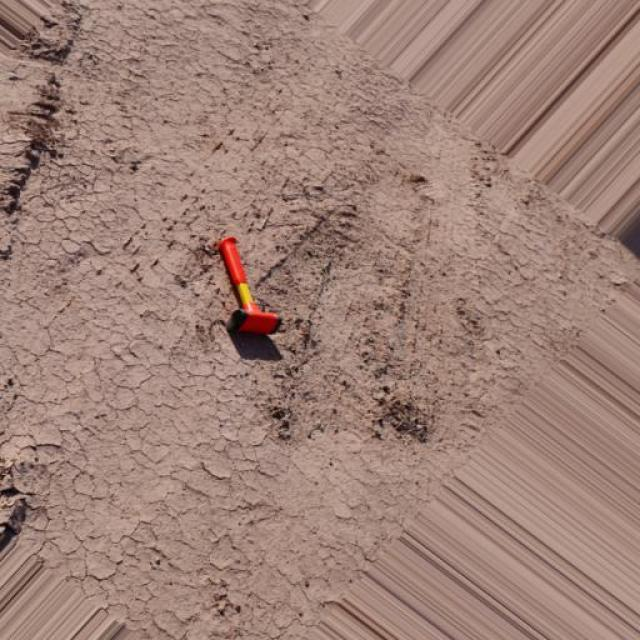mallet: (215, 234, 280, 336)
